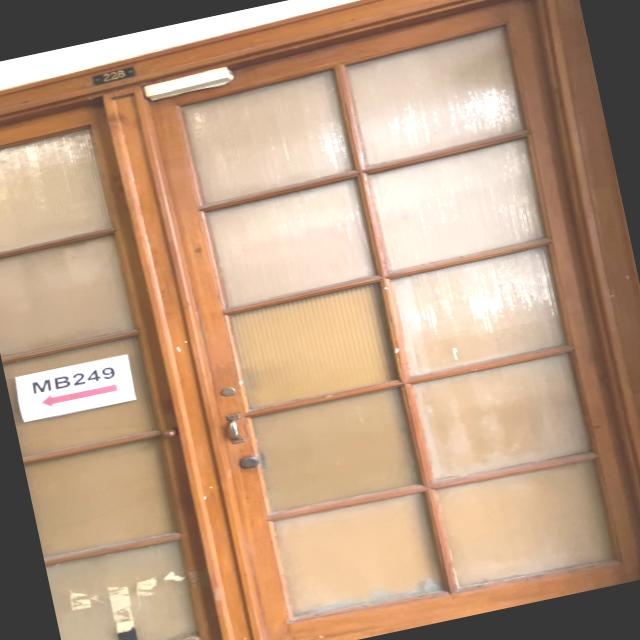room228: (88, 64, 138, 86)
